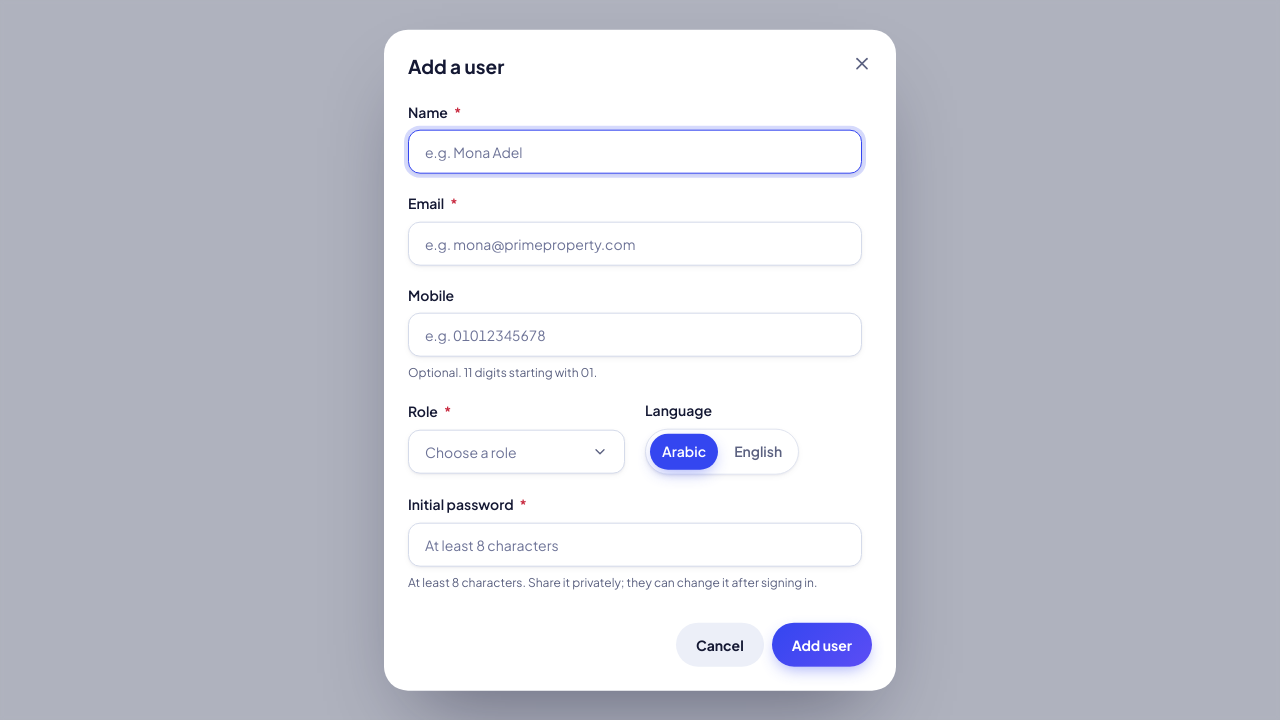
Scenario: Create user › validates the email and the 11-digit 01 mobile before sending anything
Type "Mona Adel" into the field with test id "user-name".
click(635, 152); type("Mona Adel")  # box [408,130,862,174]
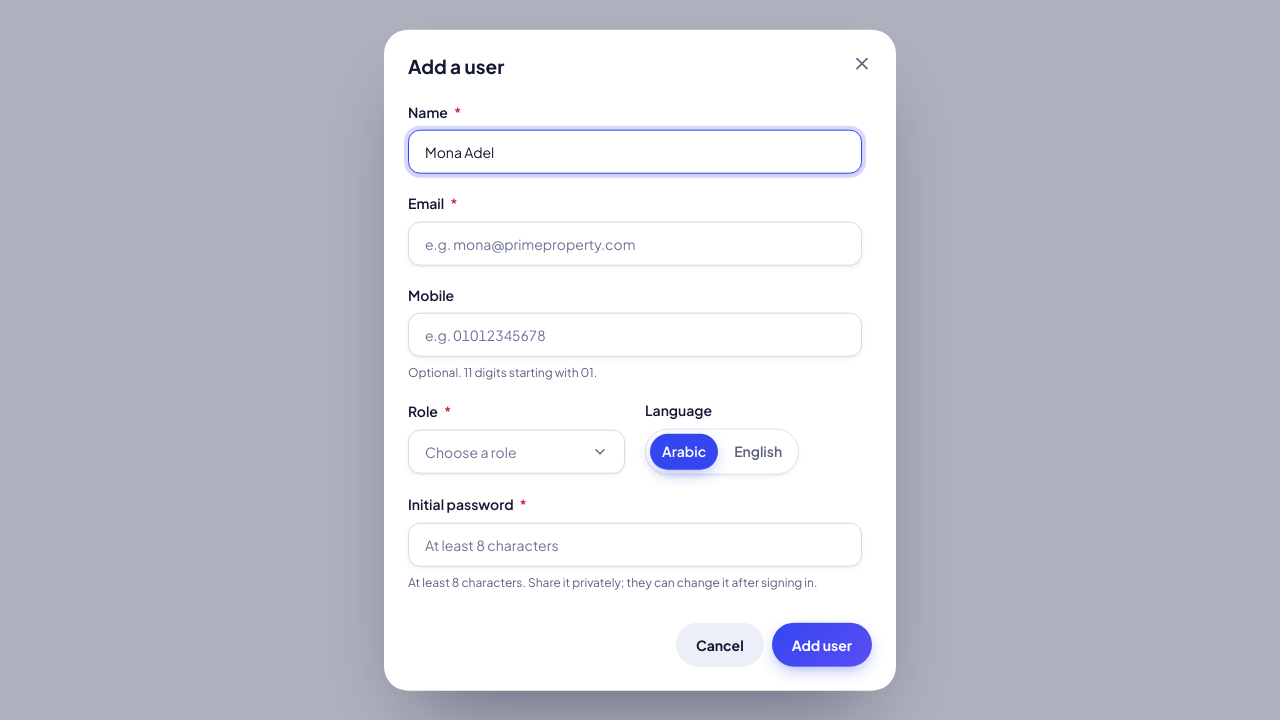
Type "mona@" into the field with test id "user-email".
click(635, 244); type("mona@")  # box [408,222,862,266]
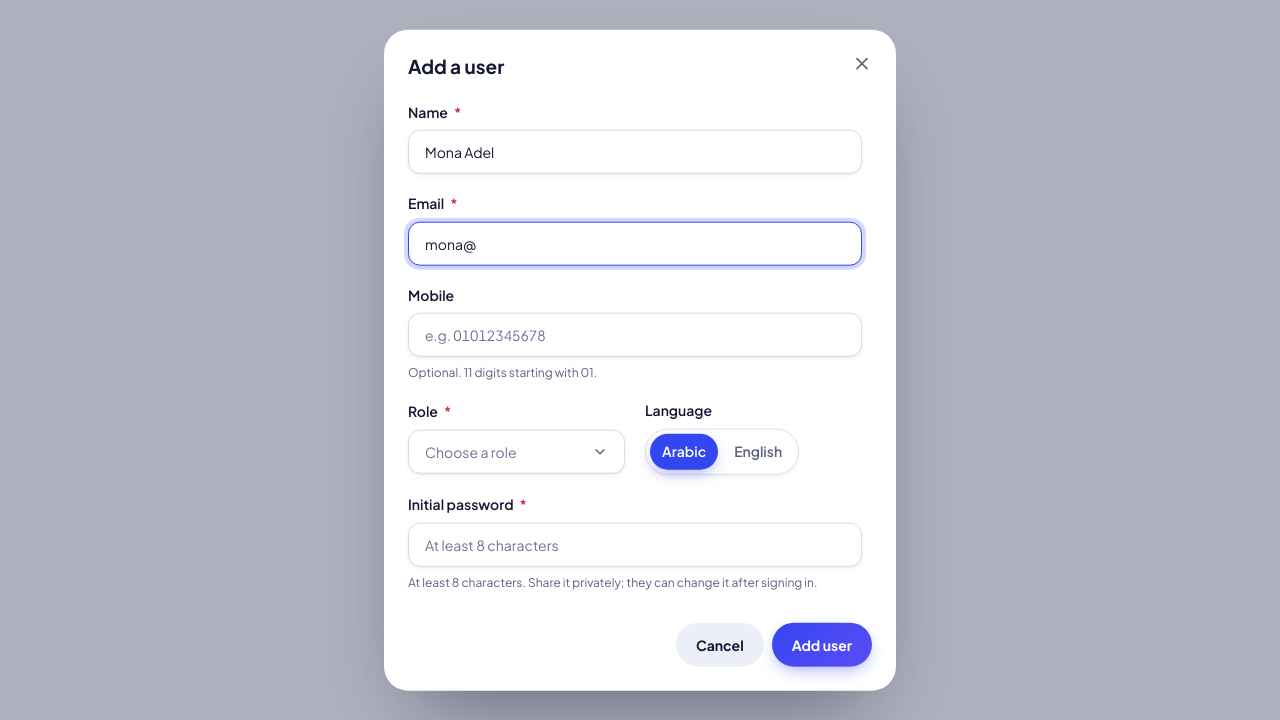
Type "0101234567" into the field with test id "user-phone".
click(635, 335); type("0101234567")  # box [408,313,862,357]
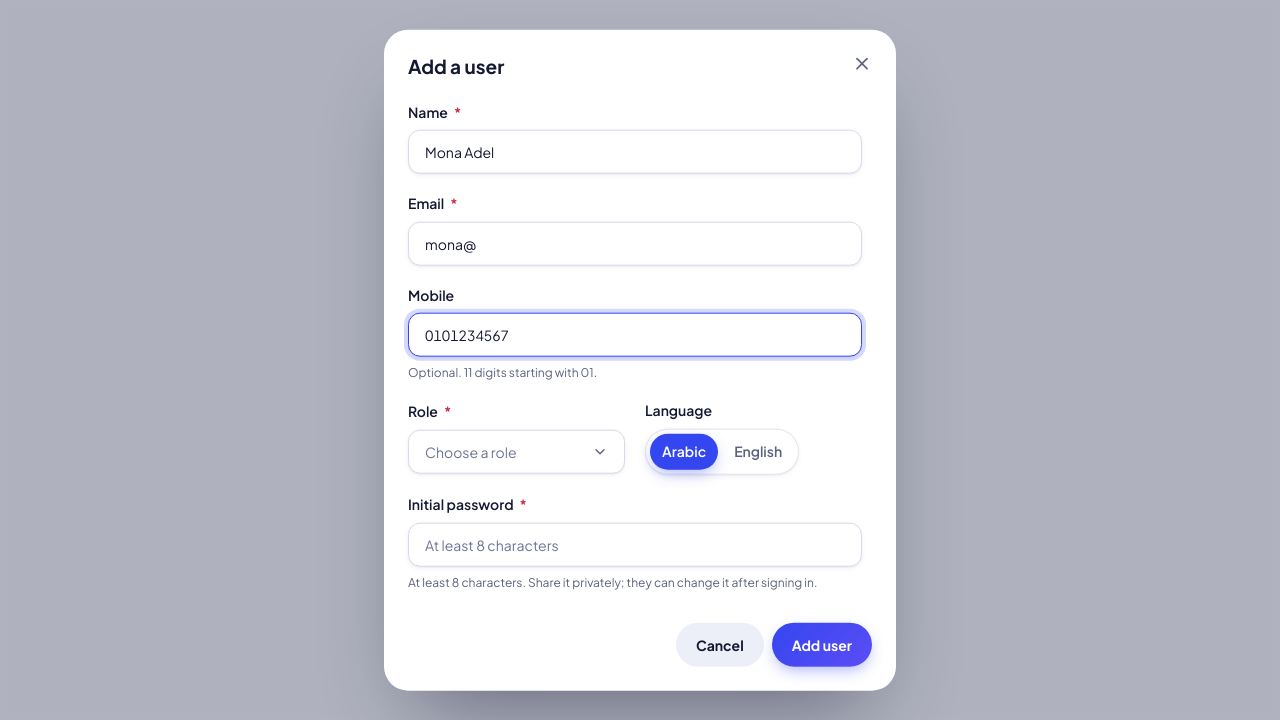
Type "short" into the field with test id "user-password".
click(635, 544); type("short")  # box [408,522,862,566]
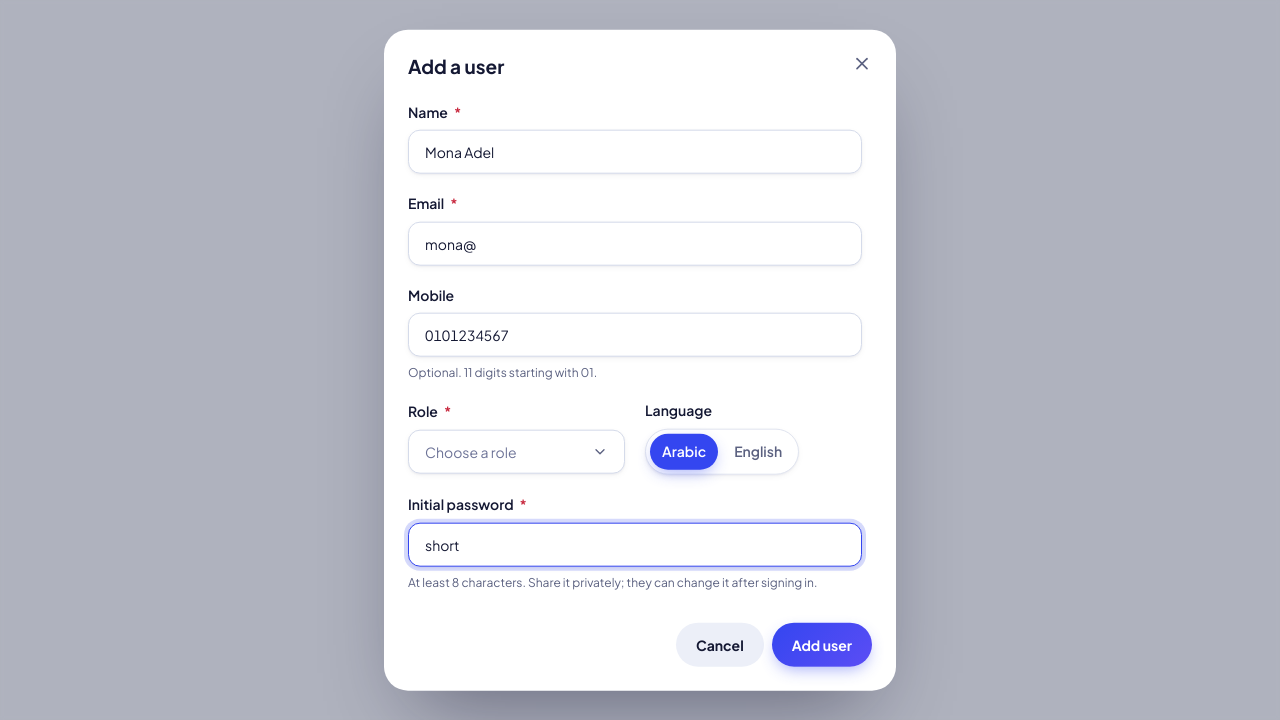
Click the button with test id "user-submit".
click(822, 644)  # box [772,622,872,666]
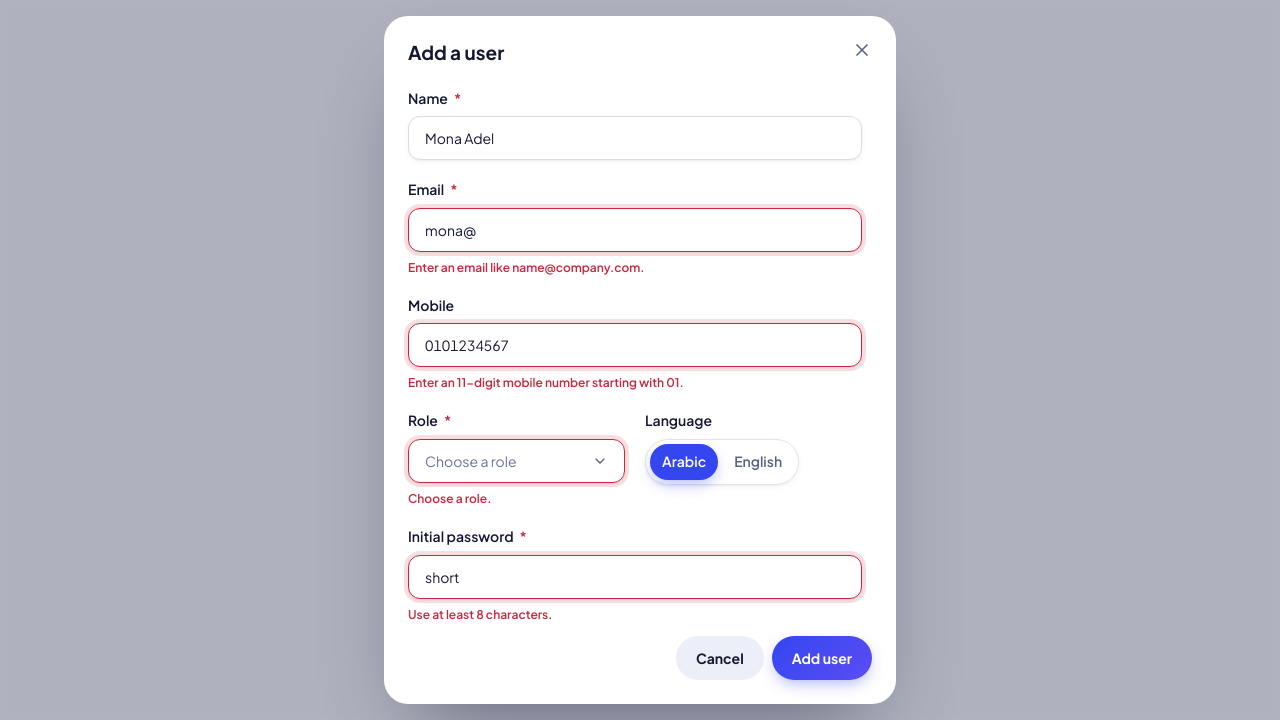
Now the text "Enter an email like name@company.com." is shown, box [408,260,644,275]
Now the text "Enter an 11-digit mobile number starting with 01." is shown, box [408,376,684,390]
Now the text "Choose a role." is shown, box [408,491,491,506]
